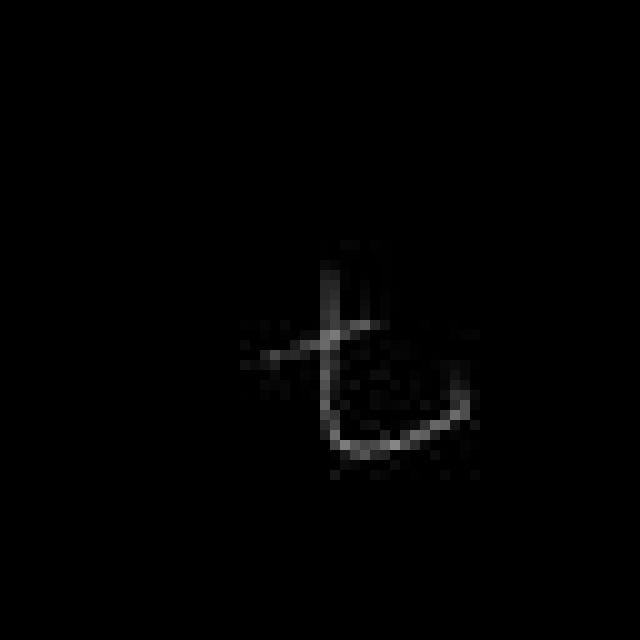7 -seven-: (259, 263, 472, 469)
